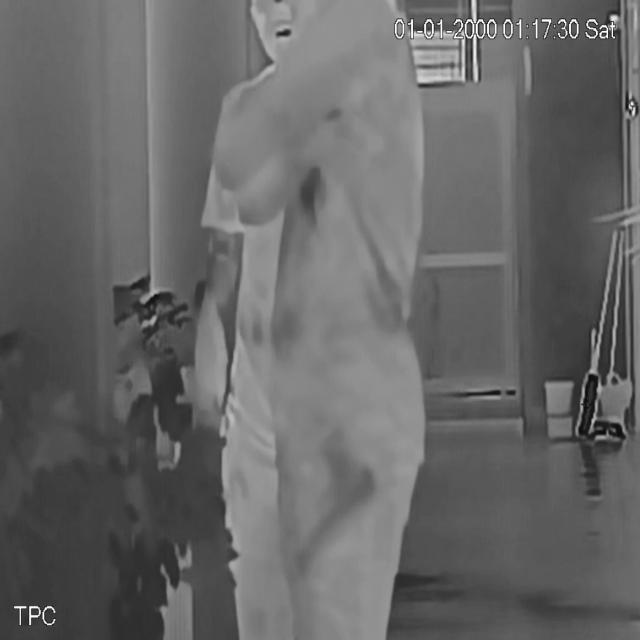Weapon: (278, 410, 390, 572)
